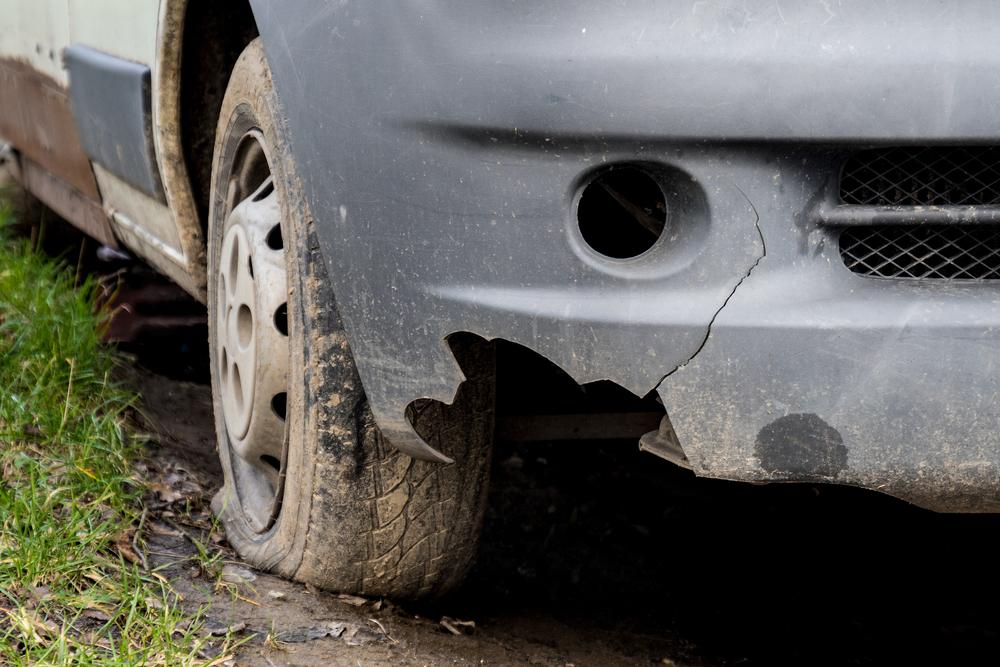crack: (653, 169, 767, 388)
tire flat: (206, 35, 498, 604)
